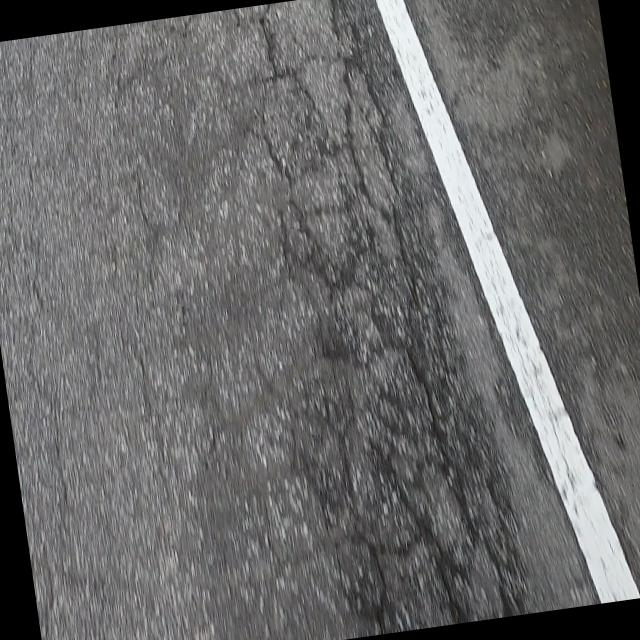Retak-Buaya: (49, 0, 528, 640)
